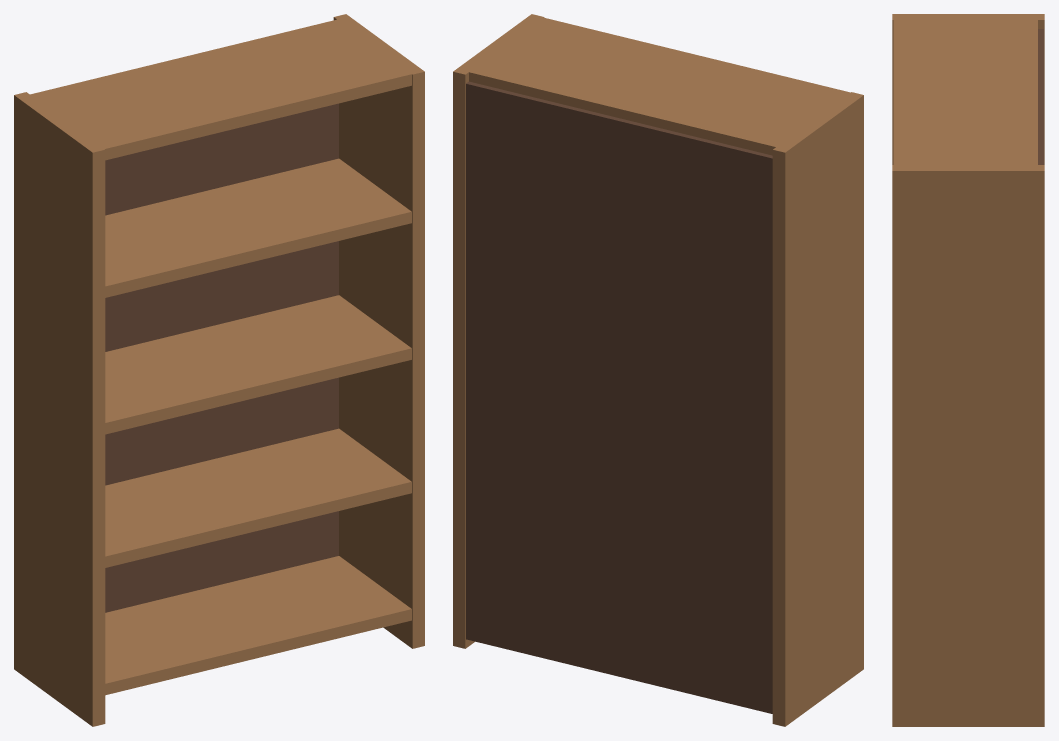
Rendered from storage_shelving.glb.
3 views of the same model, side by side, from view 1: azimuth 30°, elevation 25°; view 2: azimuth 150°, elevation 25°; view 3: azimuth 270°, elevation 25° (orthographic). The views are drawn at different scales.
Visible parts, largest first — view 1: Side, Back, Side.001, Shelf.004, Shelf.003, Shelf.001, Shelf, Shelf.002; view 2: Back, Side, Shelf.004, Side.001; view 3: Side.001, Shelf.004, Side, Back.
Boxes of the visible parts, box(x1,y1,x2,y2) form: Side: box(14, 92, 105, 726); Back: box(105, 103, 338, 612); Side.001: box(333, 14, 424, 648); Shelf.004: box(29, 19, 412, 160); Shelf.003: box(105, 158, 411, 297); Shelf.001: box(105, 428, 411, 567); Shelf: box(105, 556, 411, 695); Shelf.002: box(105, 295, 411, 434); Back: box(466, 81, 772, 713); Side: box(772, 92, 863, 726); Shelf.004: box(468, 17, 851, 155); Side.001: box(453, 14, 544, 648); Side.001: box(892, 165, 1044, 726); Shelf.004: box(893, 19, 1037, 165); Side: box(892, 14, 1044, 164); Back: box(1038, 29, 1043, 164).
Size of the model in its own units: 1.12 by 1.85 by 0.46.
